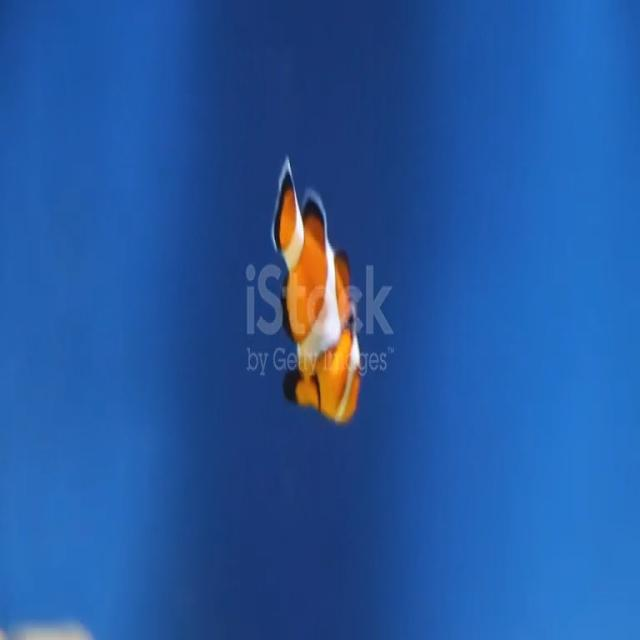fish: (266, 146, 368, 431)
